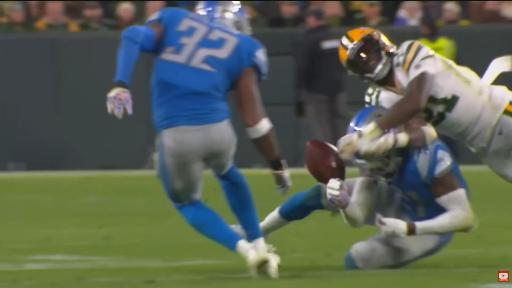Helmet: (339, 28, 396, 82), (195, 1, 252, 34), (353, 150, 402, 180)
Jersey: (147, 8, 268, 132), (393, 41, 511, 151), (390, 140, 468, 221), (365, 85, 401, 109)
Player: (107, 2, 290, 278), (261, 140, 474, 269), (339, 28, 511, 181)
